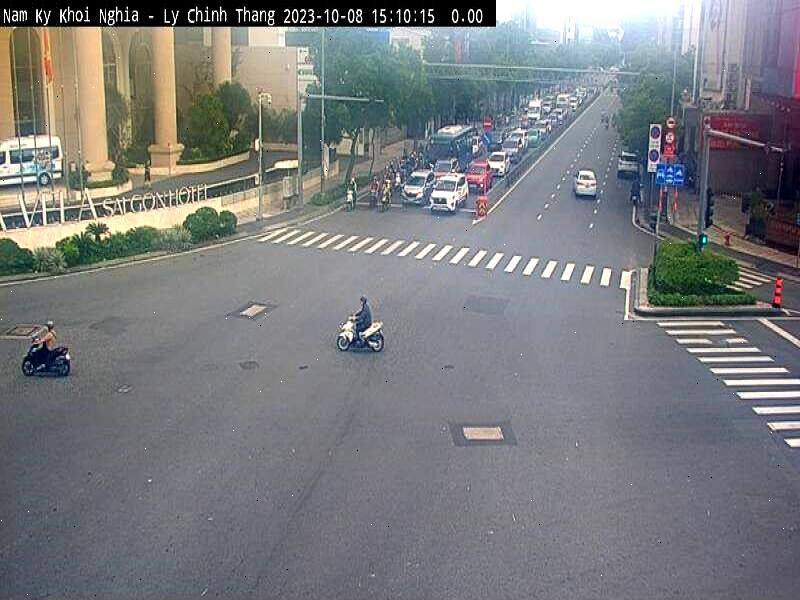bus: (425, 117, 478, 170)
car: (434, 167, 464, 224), (399, 164, 430, 212), (462, 155, 496, 197), (568, 164, 600, 208), (497, 136, 531, 168), (508, 124, 532, 154), (491, 148, 510, 178), (527, 96, 544, 127)
motorcycle: (12, 343, 85, 392), (338, 309, 386, 357), (344, 189, 360, 213), (366, 186, 382, 210), (378, 192, 392, 214)
